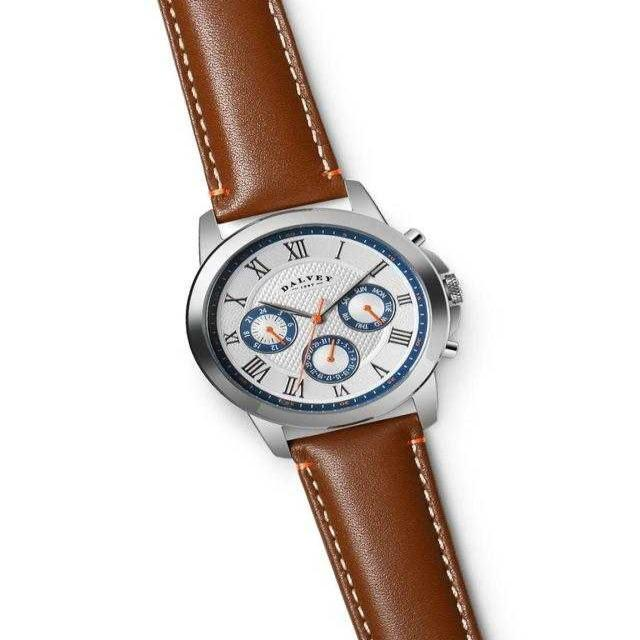watch: (201, 210, 456, 415)
